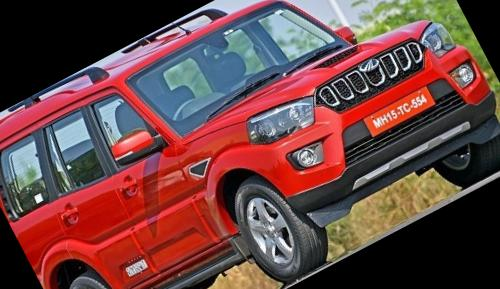plate: (360, 77, 440, 142)
